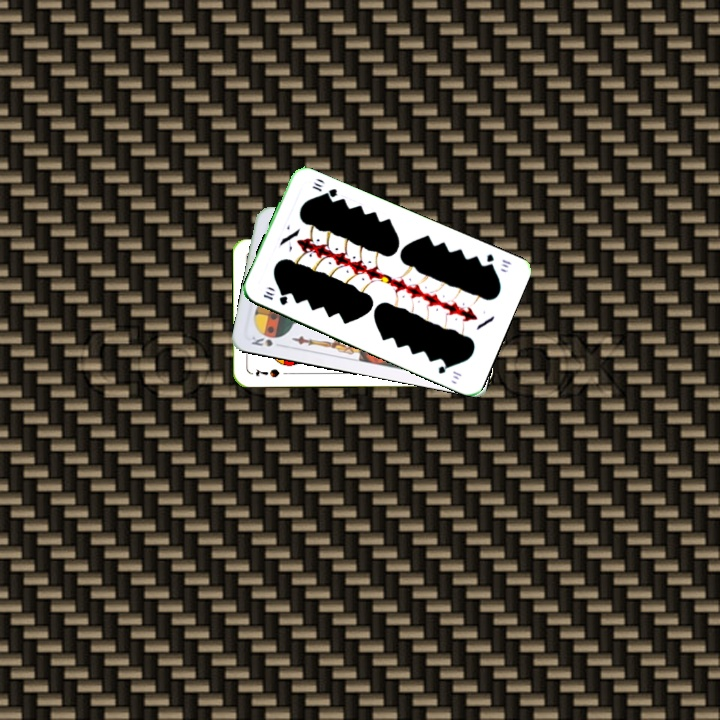G10: (481, 250, 514, 271), (259, 287, 290, 308)
S7: (252, 365, 282, 380)
SK: (247, 332, 275, 349)
